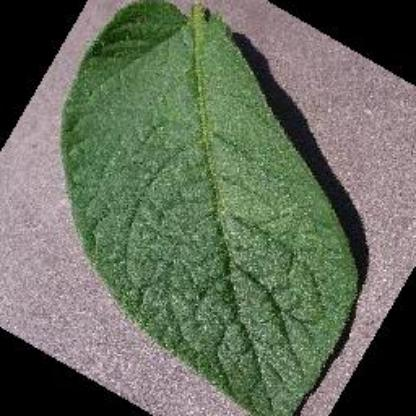Healthy-plant: (57, 0, 368, 416)
